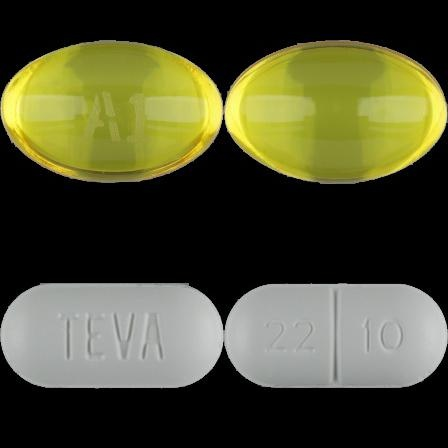50090-0532: (0, 0, 224, 224)
